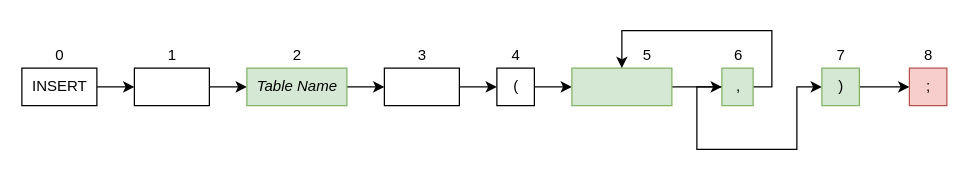
This 969x181 diagram has some shape labels left out. Each missing label, with the centre of its shape:
"INTO" goes at (x=171, y=86).
"Value" goes at (x=621, y=86).
"VALUES" goes at (x=421, y=86).
